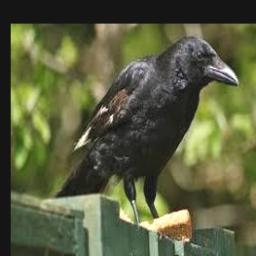Crow: (52, 35, 239, 229)
